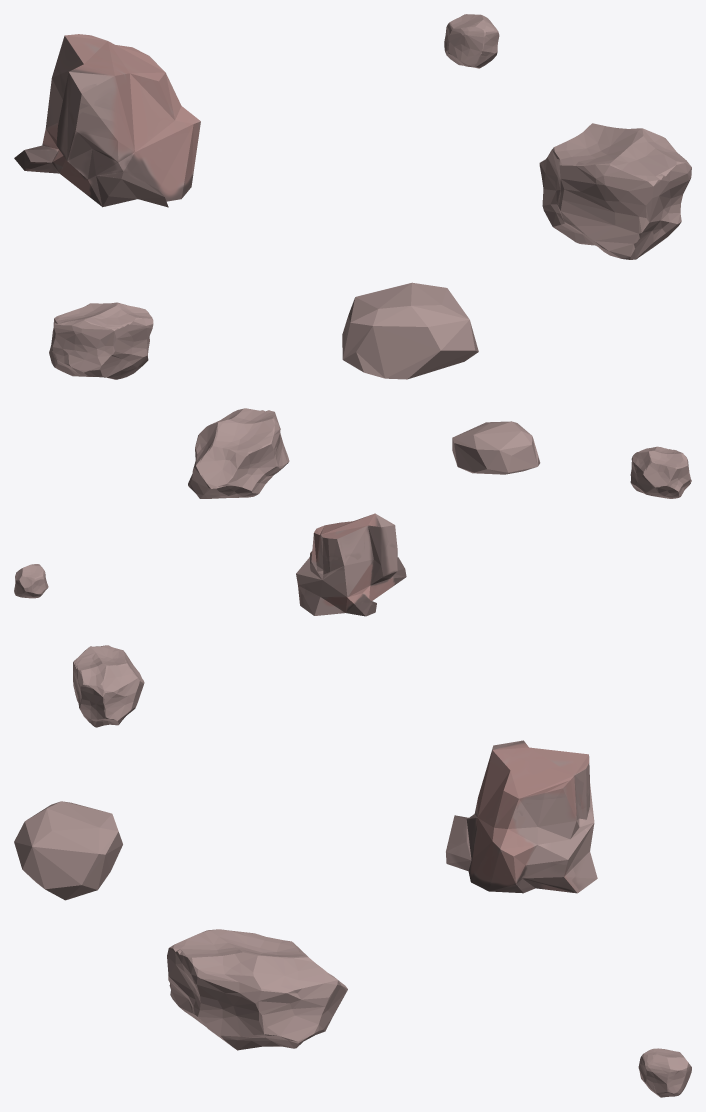
The model's file is boulders_2020_23_3.glb.
The picture shows the model from 3 angles, top to bottom: view 1: azimuth 30°, elevation 25°; view 2: azimuth 150°, elevation 25°; view 3: azimuth 270°, elevation 25°; orthographic projection. The views are drawn at different scales.
Visible parts, largest first — view 1: Boulders, Boulders.004, Boulders.001, Boulders.003, Boulders.002; view 2: Boulders, Boulders.004, Boulders.001, Boulders.003, Boulders.002; view 3: Boulders, Boulders.004, Boulders.001, Boulders.003, Boulders.002.
Part boxes in pixels (x1=…): Boulders: x1=14, y1=34, x2=200, y2=207; Boulders.004: x1=539, y1=123, x2=691, y2=259; Boulders.001: x1=342, y1=282, x2=478, y2=379; Boulders.003: x1=49, y1=302, x2=153, y2=379; Boulders.002: x1=444, y1=14, x2=499, y2=68; Boulders: x1=296, y1=513, x2=406, y2=616; Boulders.004: x1=188, y1=408, x2=289, y2=498; Boulders.001: x1=452, y1=421, x2=540, y2=474; Boulders.003: x1=630, y1=446, x2=691, y2=498; Boulders.002: x1=14, y1=564, x2=48, y2=598; Boulders: x1=446, y1=740, x2=597, y2=893; Boulders.004: x1=167, y1=929, x2=347, y2=1050; Boulders.001: x1=14, y1=801, x2=122, y2=900; Boulders.003: x1=73, y1=645, x2=144, y2=727; Boulders.002: x1=638, y1=1048, x2=691, y2=1097.
Size of the model in its own units: 0.8174 by 0.1781 by 0.7255.
2 materials, 2 textured.
